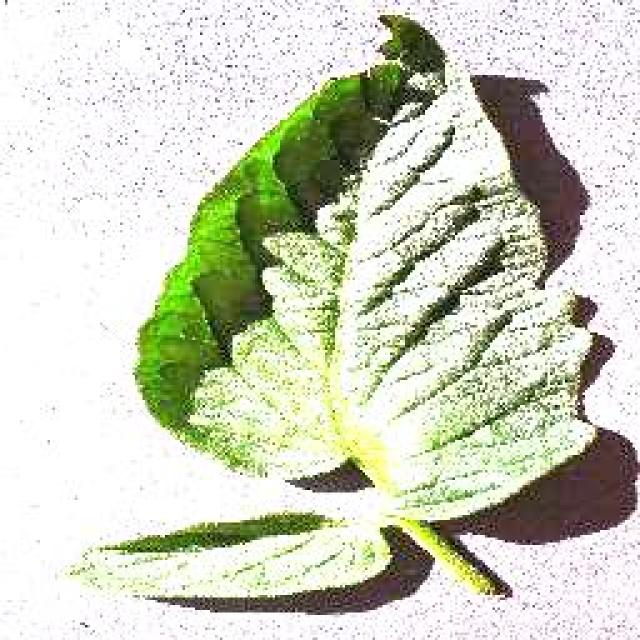Tomato___healthy: (60, 8, 601, 604)
